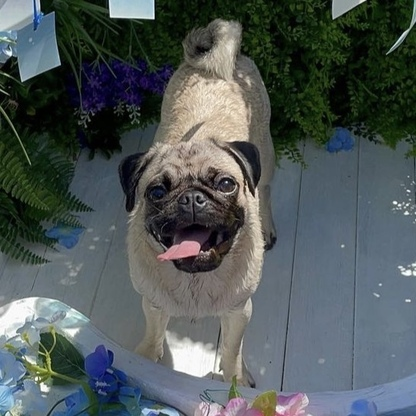Pug: (113, 15, 285, 388)
